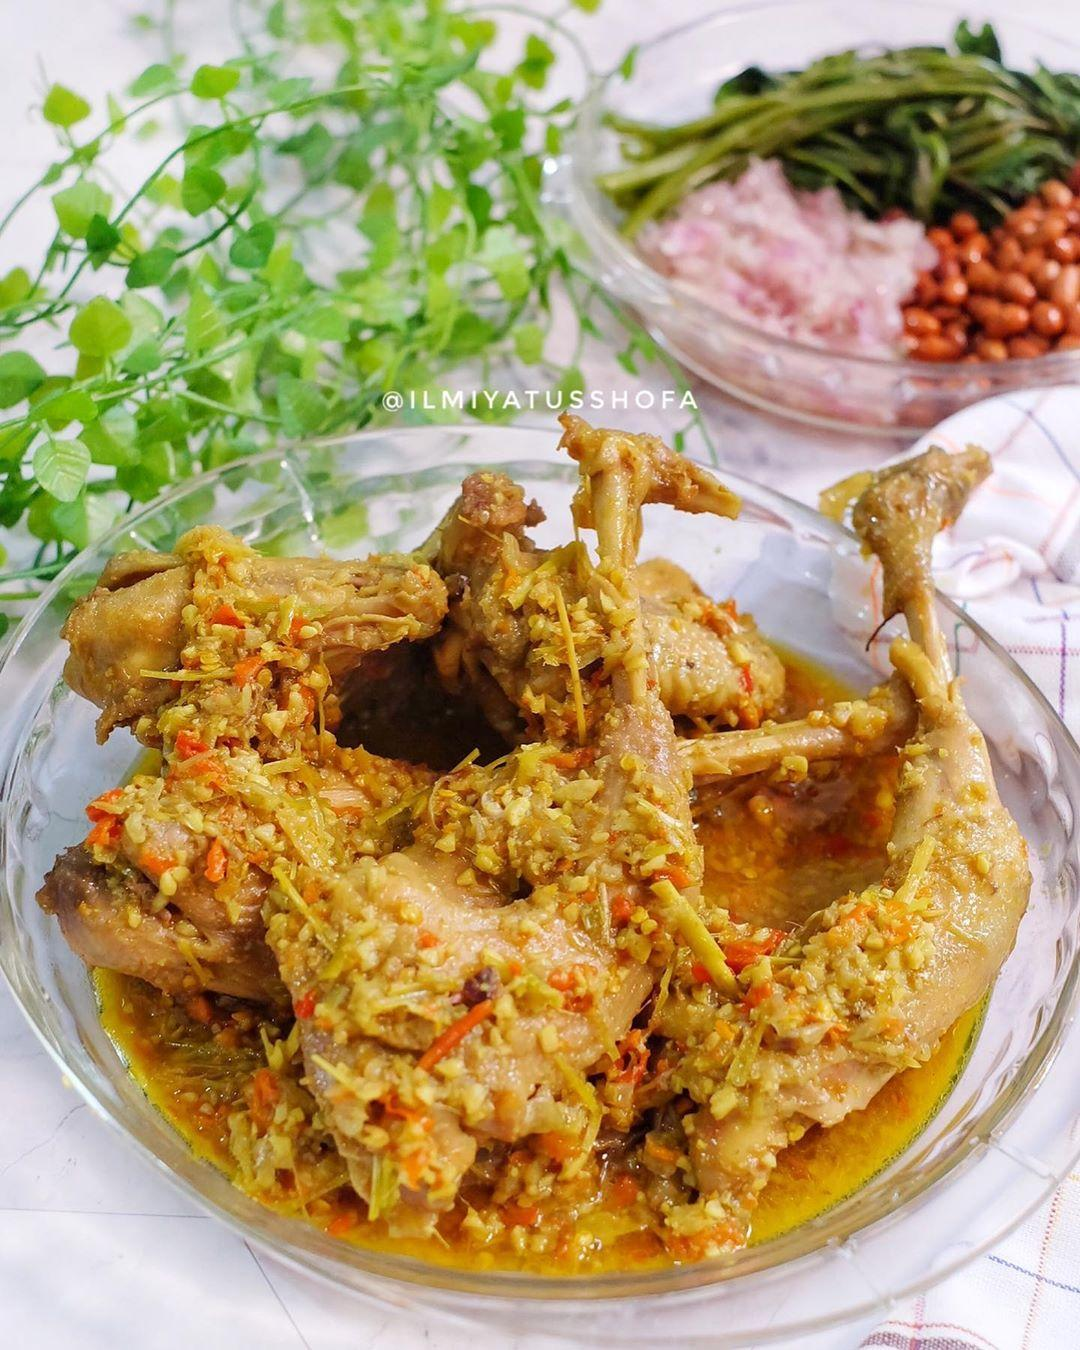ayam_betutu: (60, 412, 1034, 1243)
